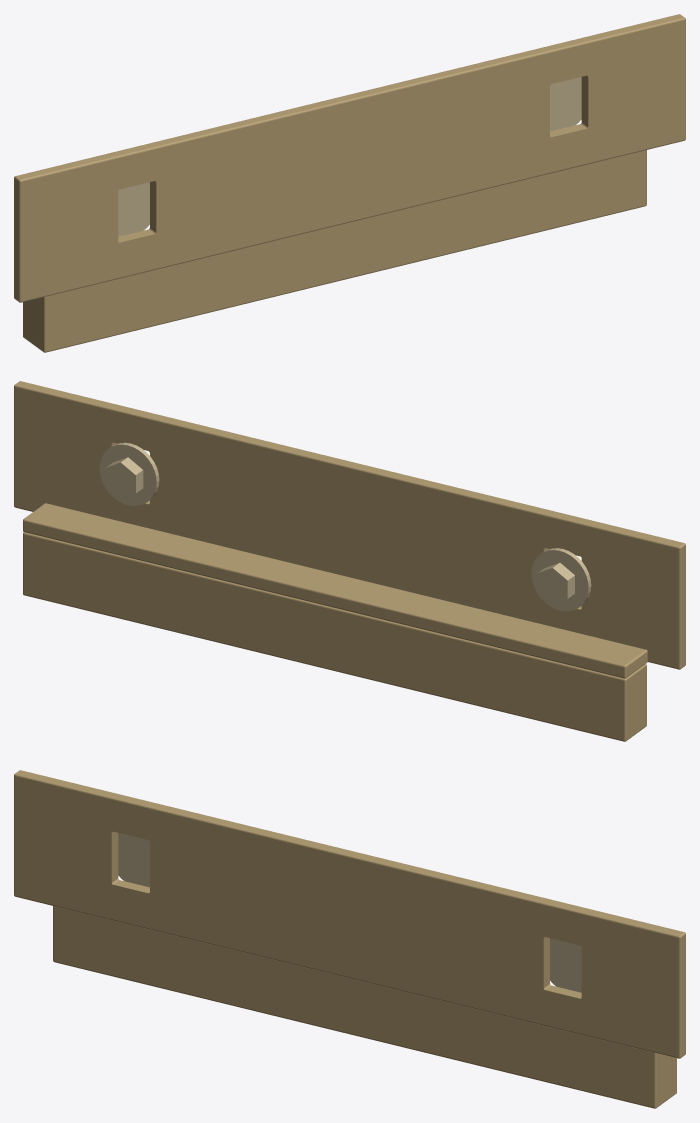
The model's file is hall_door_retention.glb.
The picture shows the model from 3 angles, top to bottom: view 1: azimuth 30°, elevation 25°; view 2: azimuth 150°, elevation 25°; view 3: azimuth 330°, elevation 25°; orthographic projection.
Parts seen in each view (by area): view 1: RetentionMount, RetentionBlade, RetentionFasteners; view 2: RetentionMount, RetentionBlade, RetentionBridge, RetentionFasteners; view 3: RetentionMount, RetentionBlade, RetentionFasteners.
Boxes of the visible parts, <box> form: RetentionMount: <box>14,14,685,302</box>; RetentionBlade: <box>23,150,646,352</box>; RetentionFasteners: <box>118,77,581,236</box>; RetentionMount: <box>14,381,685,669</box>; RetentionBlade: <box>23,532,646,741</box>; RetentionBridge: <box>23,503,647,678</box>; RetentionFasteners: <box>99,442,591,611</box>; RetentionMount: <box>14,770,685,1058</box>; RetentionBlade: <box>53,906,676,1108</box>; RetentionFasteners: <box>118,833,581,992</box>.
Size of the model in its own units: 0.21 by 0.056 by 0.016.
